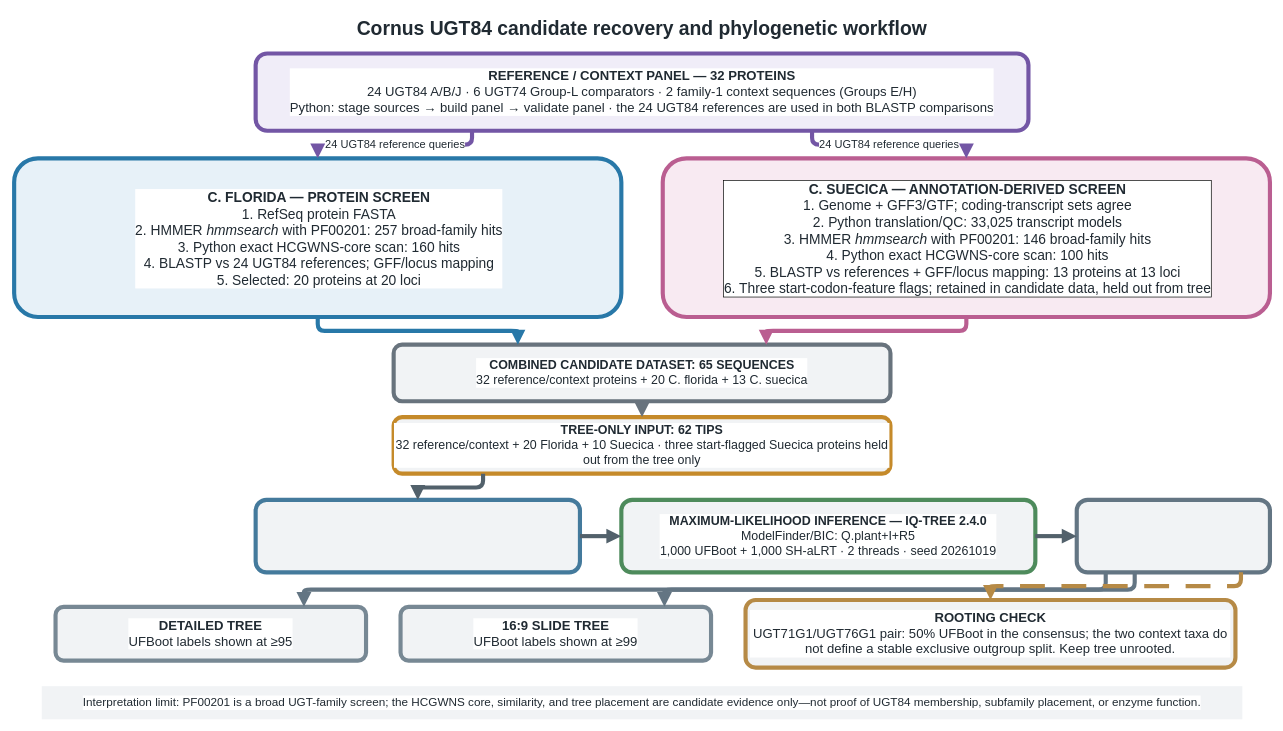
Image size: 1283x731. Some labels were removed from this diagram. The centre of each missing label's shape, as x and y in pixels:
ALIGNMENT — MAFFT 7.526 L-INS-i · 685 amino-acid sites: the point at 417,535
UNROOTED ML TREE No root applied: the point at 1173,535
